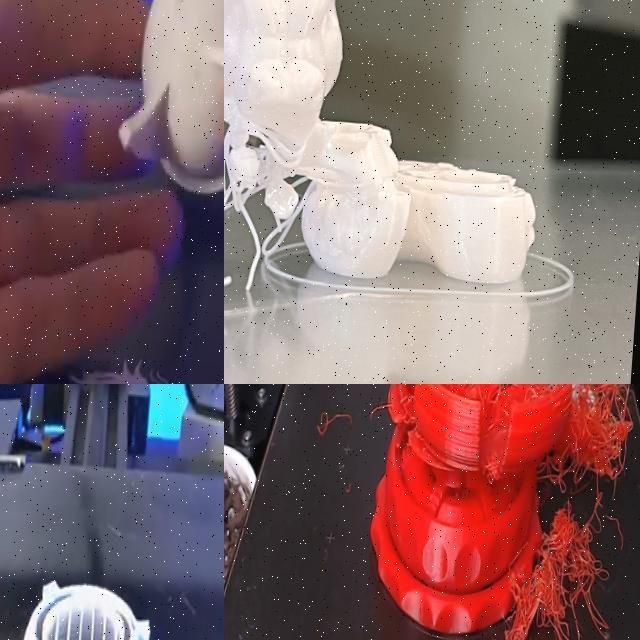spaghetti: (504, 384, 632, 640), (224, 129, 311, 304), (314, 405, 352, 445)
